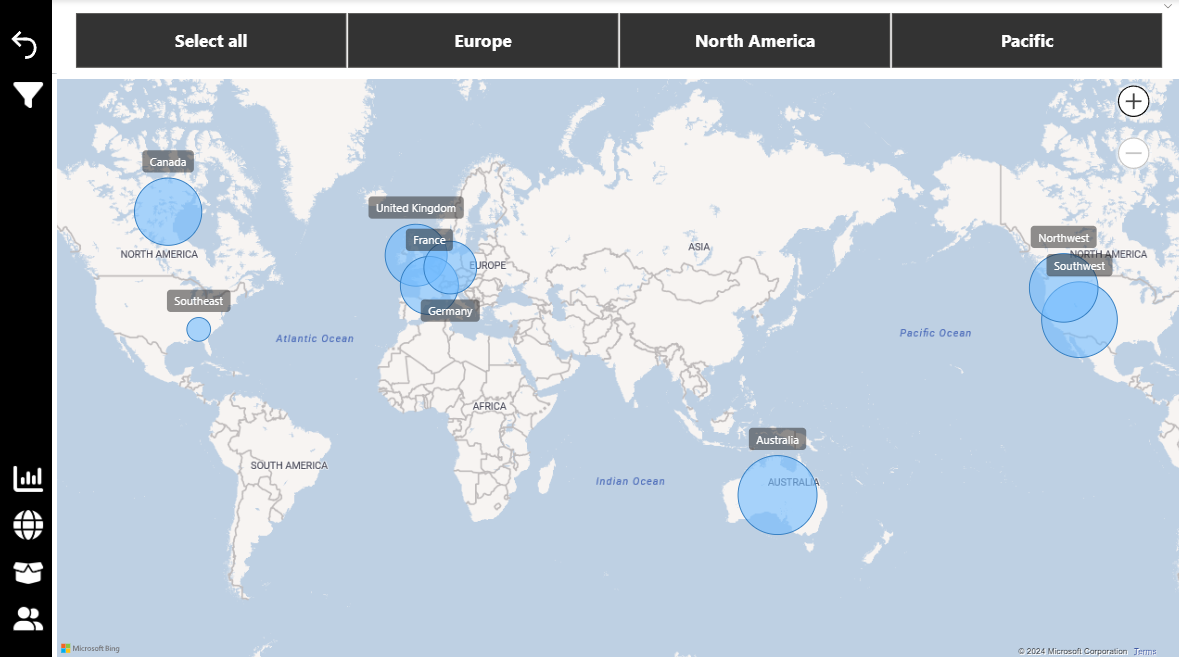

The page's visual inventory and layout, read from the dashboard file:
{"tool":"powerbi","page":{"name":"Map","canvas":[1280,720],"ordinal":1},"visuals":[{"type":"shape","box":[0,0,63.1,720],"z":0},{"type":"image","box":[11.3,80.9,42.1,45.3],"z":1000},{"type":"image","box":[11.3,642.3,42.1,51.8],"z":2000},{"type":"image","box":[11.3,580.9,42.1,76],"z":3000},{"type":"image","box":[11.3,533.9,42.1,66.3],"z":4000},{"type":"image","box":[11.3,487,42.1,61.5],"z":5000},{"type":"actionButton","box":[8.1,29.1,50.2,40.4],"z":6000},{"type":"map","fields":{"Size":["MeasureTable.TotalOrders"],"Category":["Territory Lookup.Territory Hierarchy.Continent","Territory Lookup.Territory Hierarchy.Country","Territory Lookup.Territory Hierarchy.Region"]},"box":[58.2,80.9,1221.6,639.1],"z":7000},{"type":"slicer","fields":{"Values":["Territory Lookup.Continent"]},"box":[58.2,0,1221.6,80.9],"z":8000}]}

Visuals, with their boxes on the page's 1280x720 design canvas (x1, y1, x2, y2). These are canvas units, not pixel positions in the 1179x657 screenshot, which may show the page scaled, cropped or inside an application window:
shape: crop(0, 0, 63, 720)
image: crop(11, 81, 53, 126)
image: crop(11, 642, 53, 694)
image: crop(11, 581, 53, 657)
image: crop(11, 534, 53, 600)
image: crop(11, 487, 53, 548)
actionButton: crop(8, 29, 58, 70)
map - MeasureTable.TotalOrders x Territory Lookup.Territory Hierarchy.Continent: crop(58, 81, 1280, 720)
slicer - Territory Lookup.Continent: crop(58, 0, 1280, 81)
